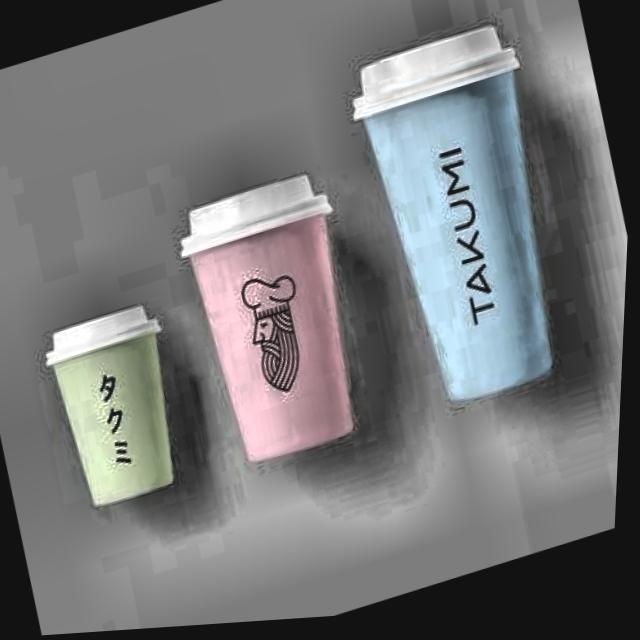Cup: (320, 31, 607, 437), (164, 176, 384, 501), (30, 294, 210, 534)
